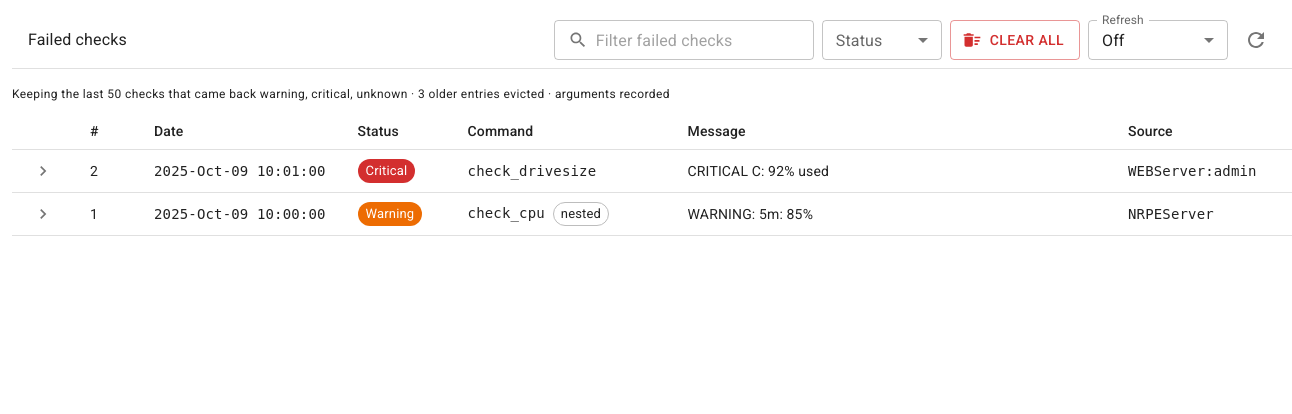
Test: FailedChecks › expands an entry to its lines, perf data and arguments
This screenshot has width=1292, height=414.
Expected: the text "check_drivesize" is shown, [452,149,672,192]
Click the button named "expand" in the row of "2025-Oct-09 10:01:00": (43, 171) [28,156,58,186]
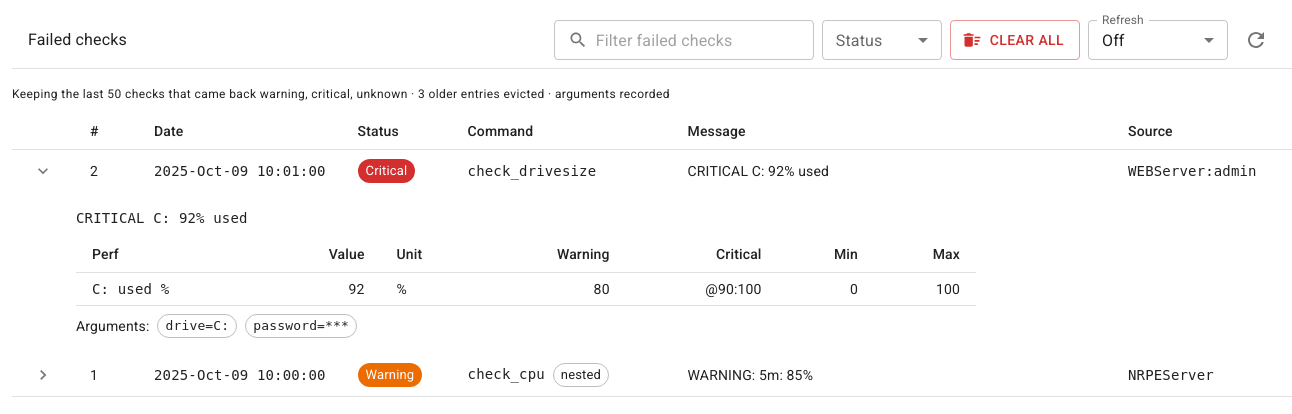
Result: the text "C: used %" is shown at [76,272,264,305]
Result: the text "92" is shown at [264,272,380,305]
Result: the text "@90:100" is shown at [626,272,778,305]
